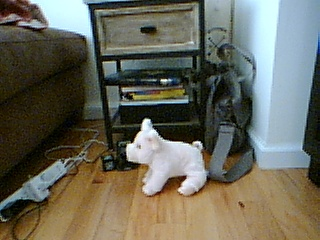piggy: (125, 117, 209, 198)
